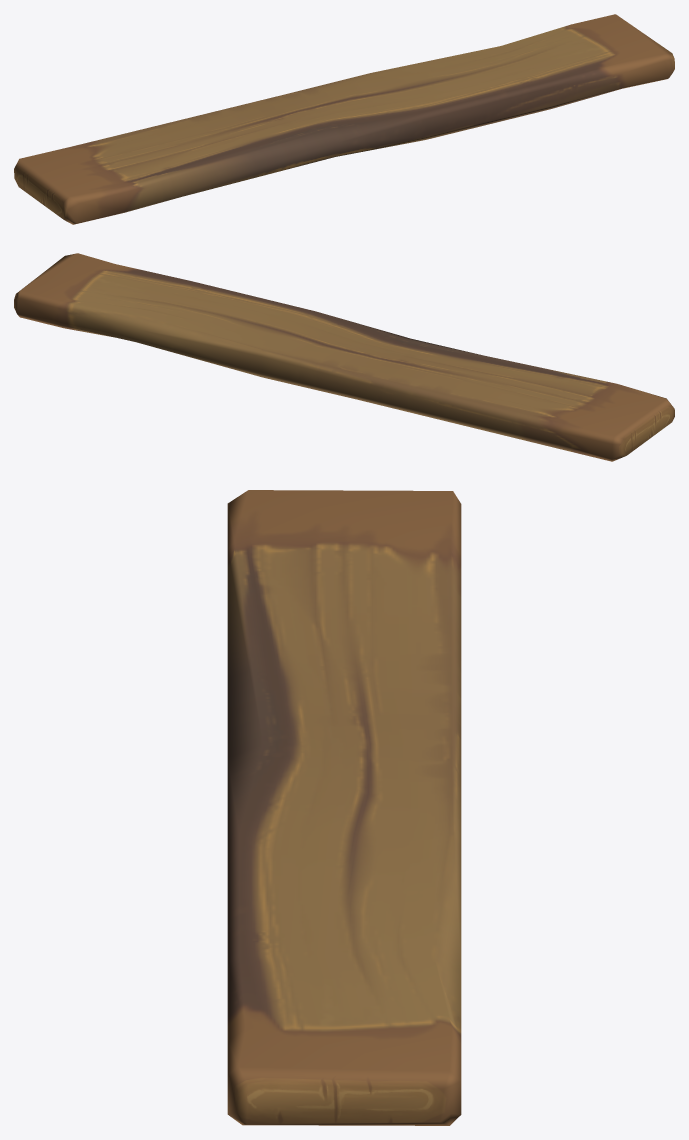
File: SM_MOD_basic_plank_town_05.fbx
The picture shows the model from 3 angles, top to bottom: view 1: azimuth 30°, elevation 25°; view 2: azimuth 150°, elevation 25°; view 3: azimuth 270°, elevation 25°; orthographic projection. The views are drawn at different scales.
Parts seen in each view (by area): view 1: SM_MOD_basic_plank_town_05_LOD0; view 2: SM_MOD_basic_plank_town_05_LOD0; view 3: SM_MOD_basic_plank_town_05_LOD0.
Boxes of the visible parts, bbox=[...] form: SM_MOD_basic_plank_town_05_LOD0: bbox=[14, 14, 674, 224]; SM_MOD_basic_plank_town_05_LOD0: bbox=[14, 253, 674, 461]; SM_MOD_basic_plank_town_05_LOD0: bbox=[227, 490, 461, 1125].
Size of what is drawn, in the model's own units: 100 by 4.24 by 16.66.
